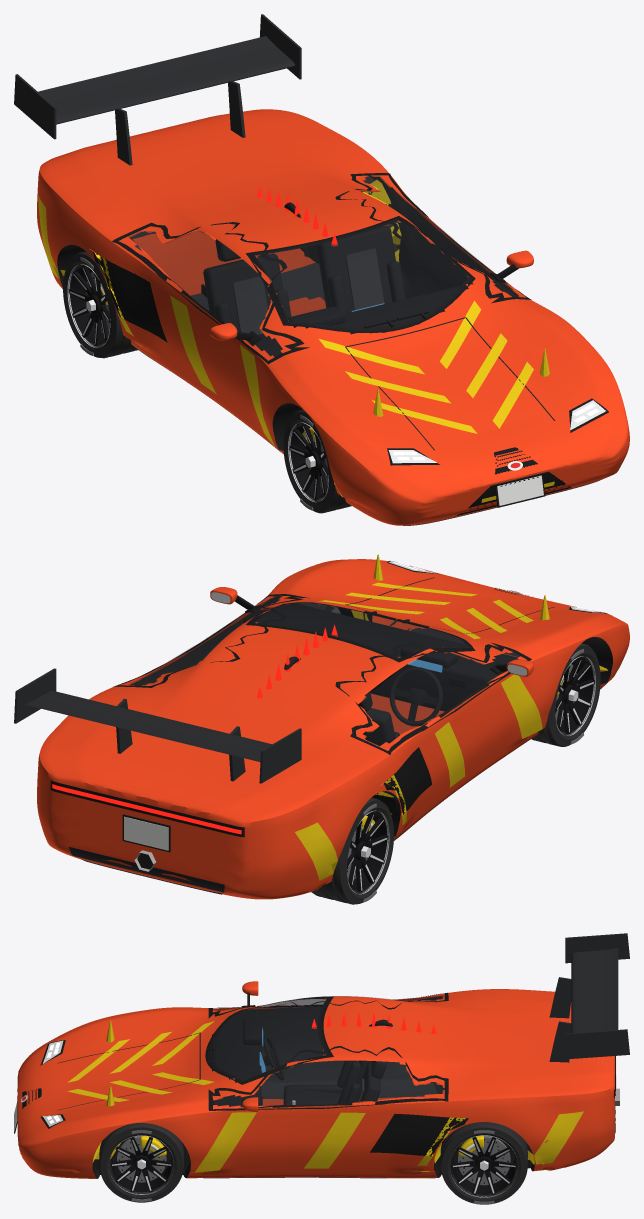
The model's file is kasai.glb.
The picture shows the model from 3 angles, top to bottom: view 1: azimuth 30°, elevation 25°; view 2: azimuth 150°, elevation 25°; view 3: azimuth 270°, elevation 25°; orthographic projection. The views are drawn at different scales.
Visible parts, largest first — view 1: Body, Wheel_RR, Wheel_FR; view 2: Body, Wheel_RR, Wheel_FR; view 3: Body, Wheel_RL, Wheel_FL.
Boxes of the visible parts, x1,y1,x2,y2 form: Body: (14, 14, 629, 525); Wheel_RR: (63, 251, 137, 358); Wheel_FR: (283, 409, 351, 513); Body: (14, 554, 629, 899); Wheel_RR: (311, 797, 393, 904); Wheel_FR: (531, 643, 600, 746); Body: (14, 933, 629, 1178); Wheel_RL: (440, 1122, 527, 1204); Wheel_FL: (99, 1123, 183, 1202).
Bounding box in the file's own units: 2.37 × 1.5 × 4.95.
